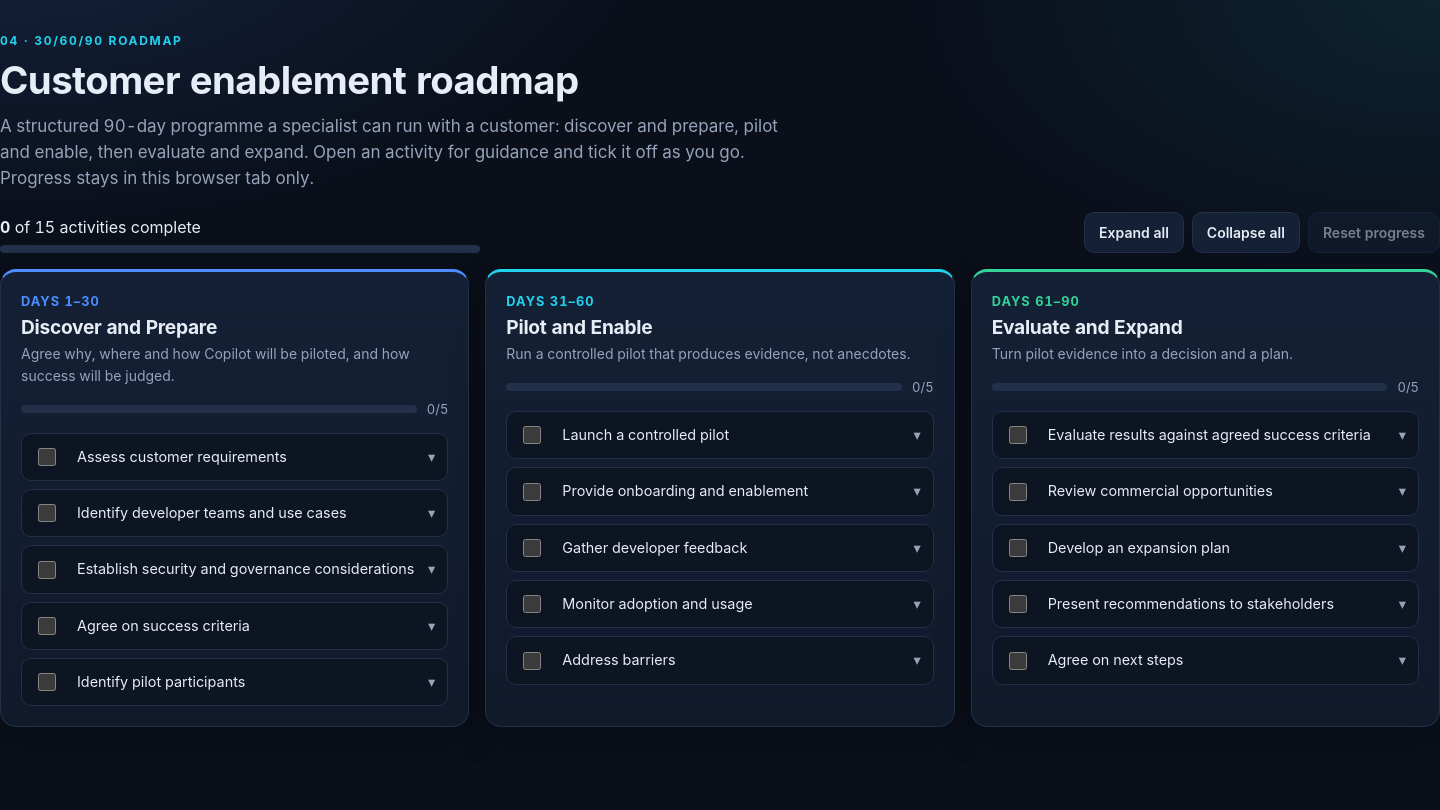
Test case: Roadmap › expands and collapses an activity's guidance
Later steps or results of the test are not shown.
Click the button "Agree on success criteria ▾".
click(163, 625)  # box x1=69 y1=607 x2=443 y2=645
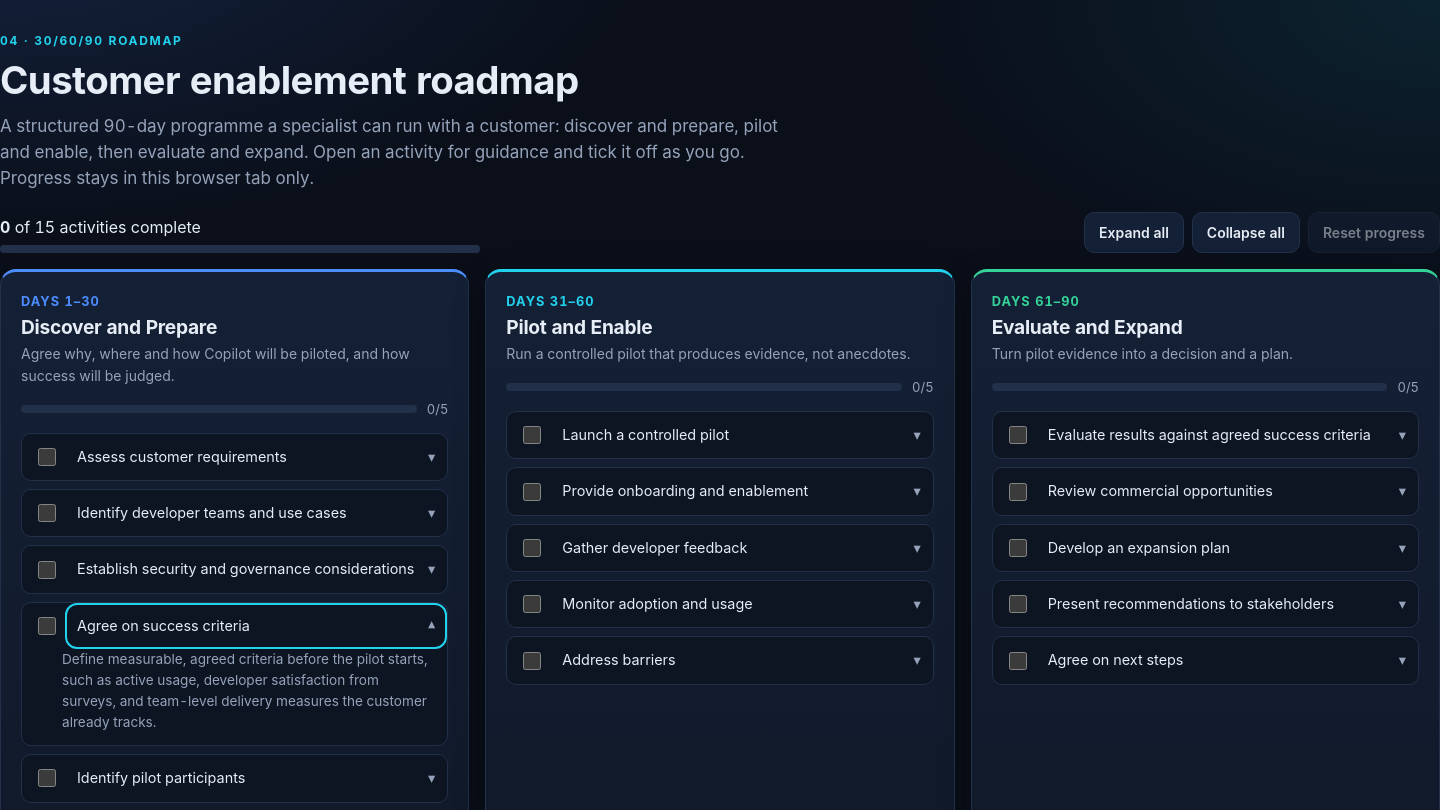
Now the button "Agree on success criteria ▾" is expanded, box x1=69 y1=607 x2=443 y2=645
